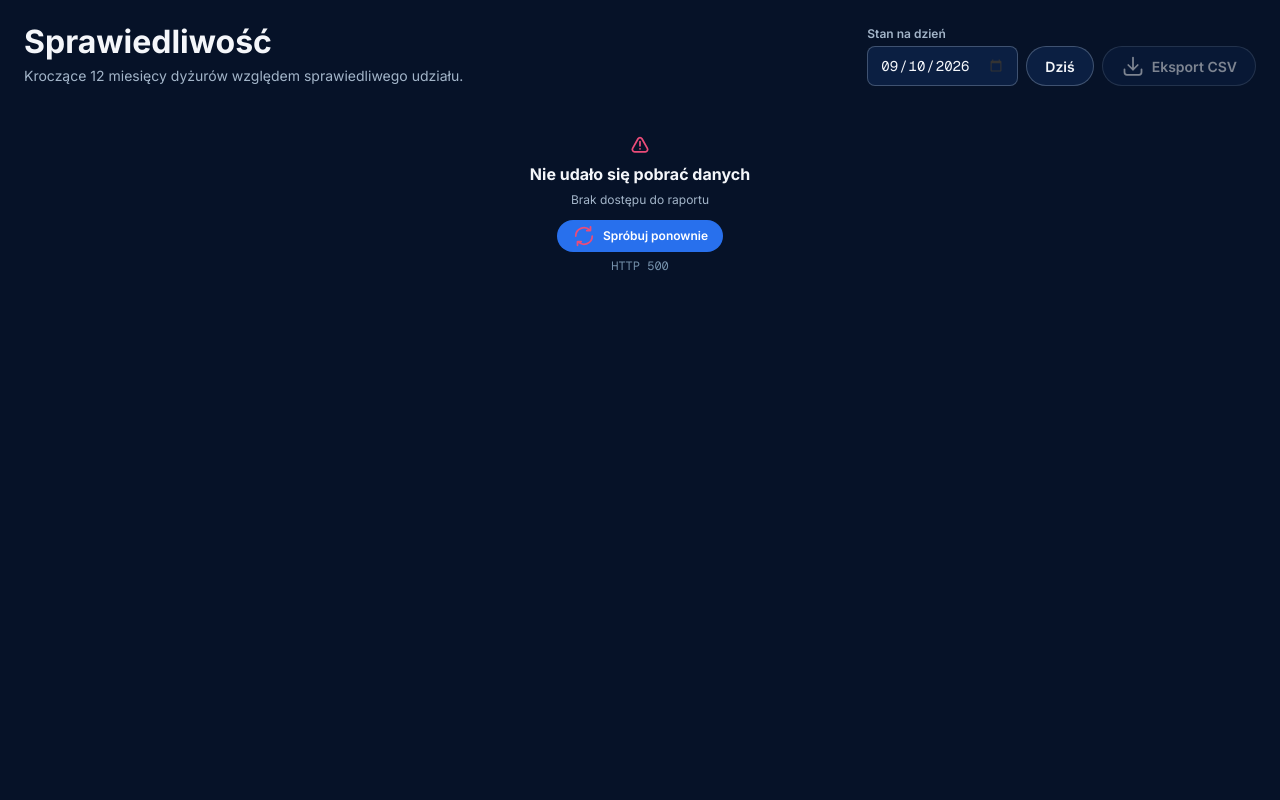
Test: FairnessPanel report states › shows a failed report and fetches it again on retry
The image size is (1280, 800).
Expected: the message shows "Brak dostępu do raportu", [571,192,709,207]
Expected: the text "Kroczące 12 miesięcy dyżurów względem sprawiedliwego udziału." is shown, [24,65,463,86]
Click the button "Spróbuj ponownie": click(640, 236) [557,220,723,252]
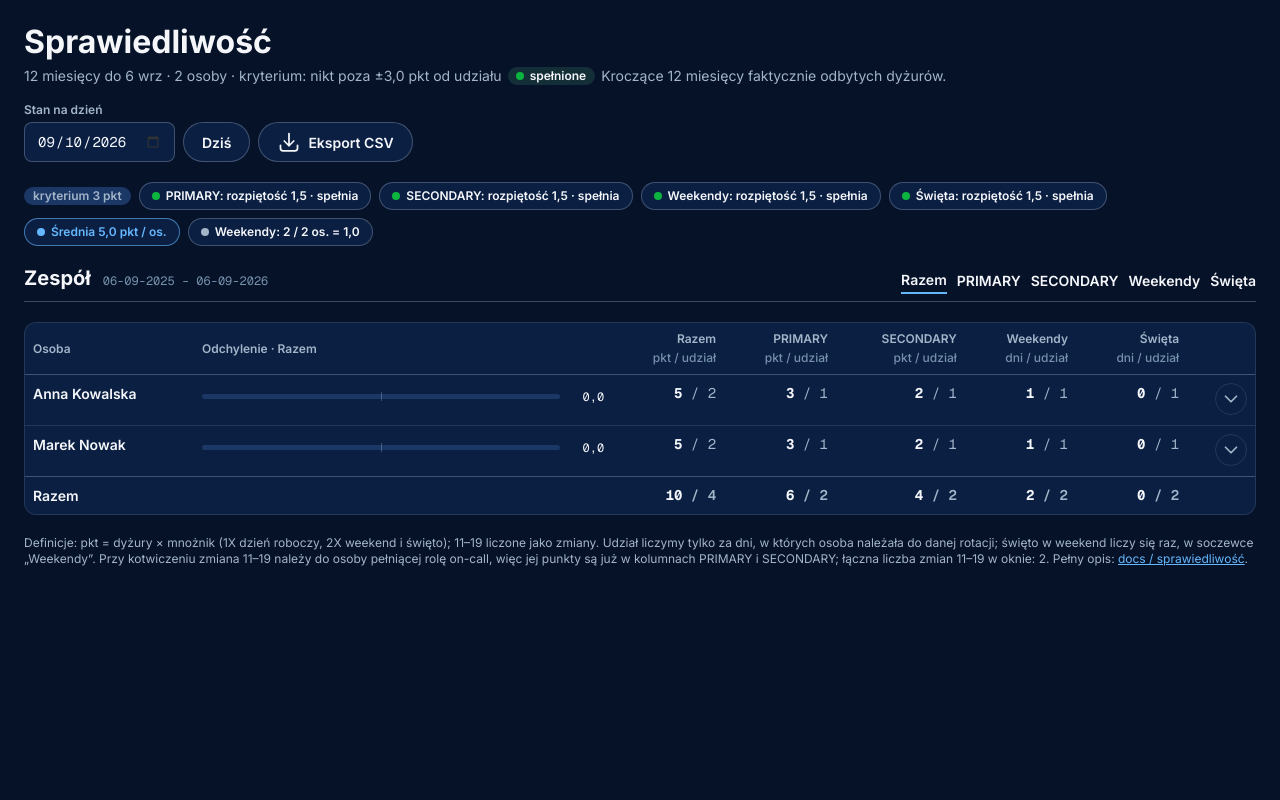
Expected: the column heading "Anna Kowalska" is shown, [25,375,194,426]
